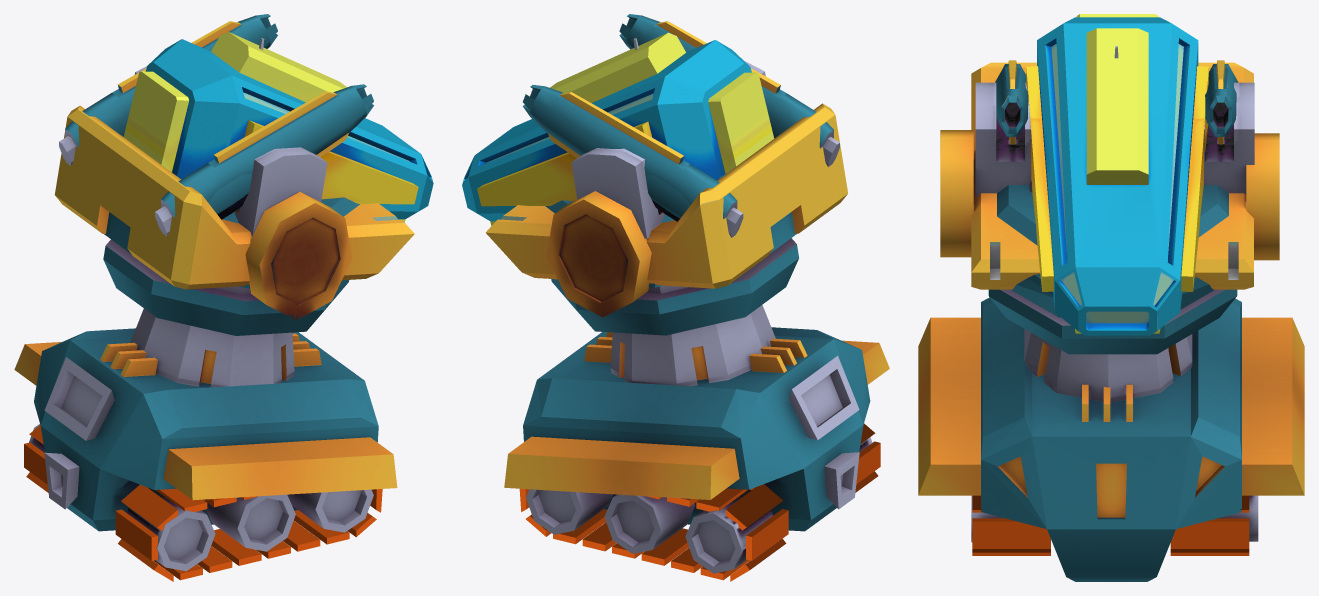
The model's file is Player_moving_upgrade0.obj.
3 renders of one model, left to right at view 1: azimuth 30°, elevation 25°; view 2: azimuth 150°, elevation 25°; view 3: azimuth 270°, elevation 25°, orthographic. The views are drawn at different scales.
Visible parts, largest first — view 1: Object015, Object014, Box009, Box017, Box016; view 2: Object015, Object014, Box009, Box016, Box017; view 3: Object015, Object014, Box017, Box016, Box009.
Boxes of the visible parts, bbox=[...] form: Object015: bbox=[14, 32, 433, 531]; Object014: bbox=[59, 14, 373, 236]; Box009: bbox=[29, 424, 373, 571]; Box017: bbox=[115, 484, 382, 581]; Box016: bbox=[24, 425, 48, 492]; Object015: bbox=[462, 32, 889, 531]; Object014: bbox=[523, 14, 839, 237]; Box009: bbox=[526, 437, 872, 573]; Box016: bbox=[519, 484, 788, 581]; Box017: bbox=[855, 423, 880, 492]; Object015: bbox=[918, 14, 1304, 581]; Object014: bbox=[995, 60, 1238, 144]; Box017: bbox=[972, 495, 1050, 555]; Box016: bbox=[1170, 495, 1249, 555]; Box009: bbox=[971, 495, 1258, 542].
Bounding box in the file's own units: 70.38 × 88.9 × 59.78.
5 materials, 3 textured.
